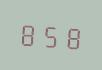eight: (18, 17, 38, 49), (61, 20, 81, 52)
five: (40, 19, 60, 50)
